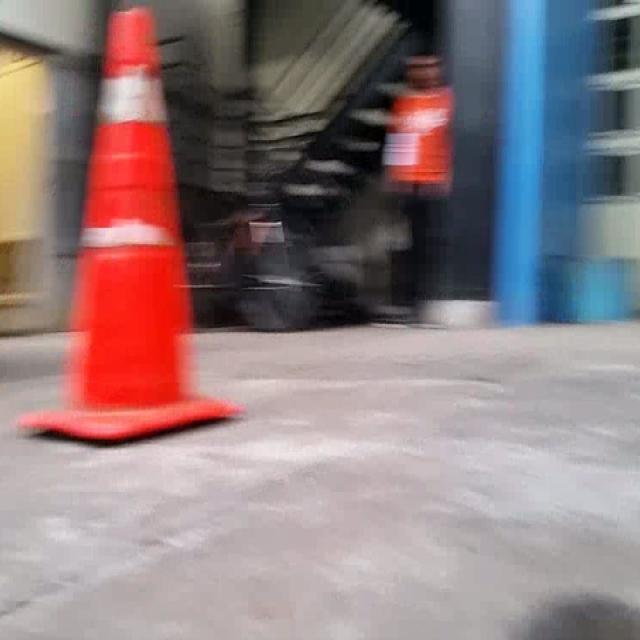cone: (21, 8, 243, 437)
